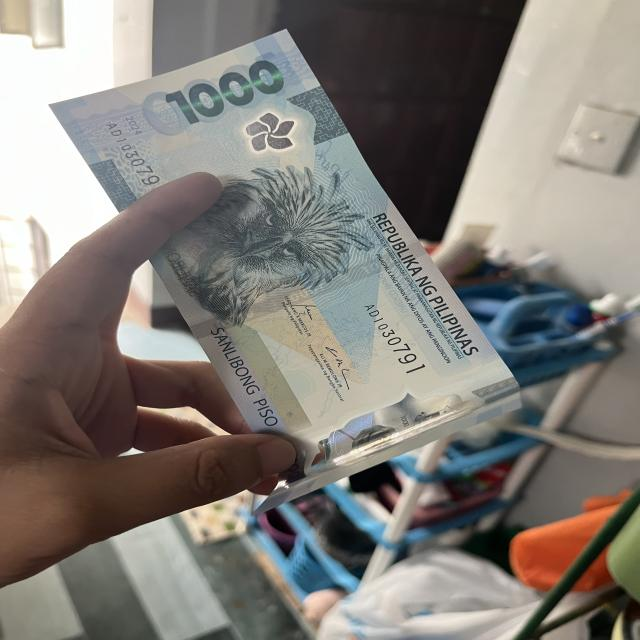clear_window: (310, 383, 493, 484)
eagle: (164, 153, 389, 332)
sampaguita: (210, 107, 308, 165)
security_thread: (183, 239, 428, 345)
serial_number: (359, 295, 433, 379), (98, 119, 172, 189)
value_watermark: (281, 451, 307, 484)
